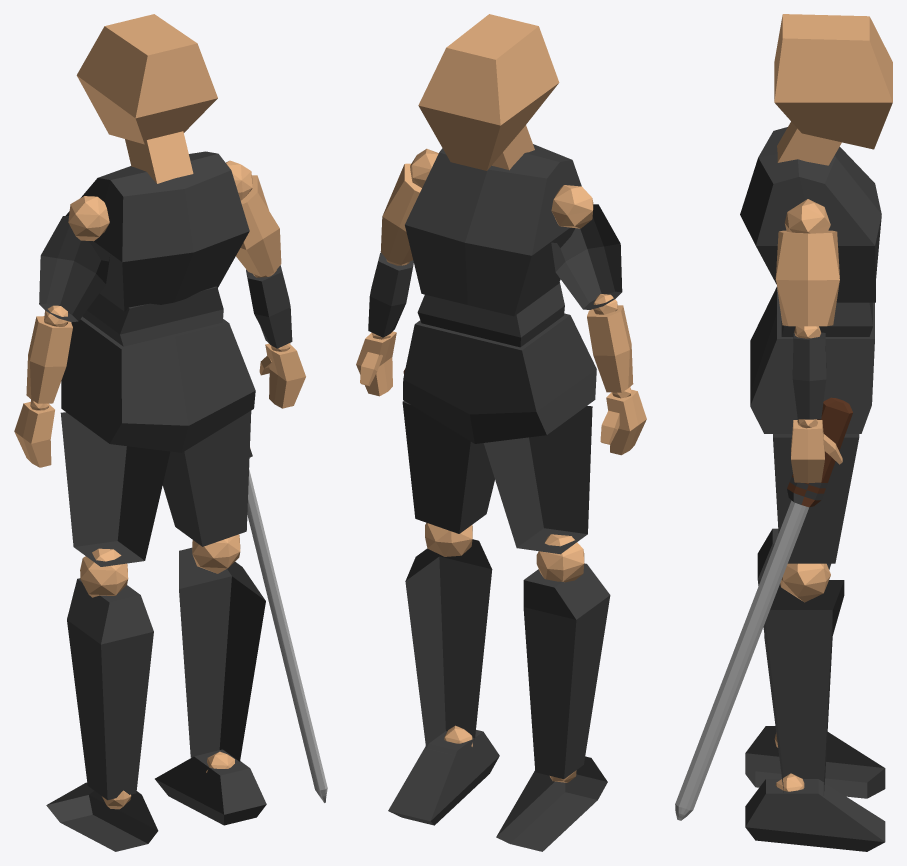
Rendered from Costa.fbx.
The picture shows the model from 3 angles, left to right: view 1: azimuth 30°, elevation 25°; view 2: azimuth 150°, elevation 25°; view 3: azimuth 270°, elevation 25°; orthographic projection.
Parts seen in each view (by area): view 1: Torso.004, Cube.063, Cube.067, Cube.065, Head.004, BeinLi.004, BeinRe.004, Cube.066, Cube.069, Cube.064, Cube.068, Klinge (+10 smaller); view 2: Cube.063, Torso.004, Head.004, Cube.067, Cube.065, BeinLi.004, BeinRe.004, Cube.066, Cube.068, Cube.069, Cube.064, Cube.070 (+9 smaller); view 3: Head.004, Cube.063, Cube.065, Torso.004, Cube.066, Klinge, Cube.073, BeinRe.004, Cube.068, Cube.074, Cube.078, Cube.075 (+5 smaller).
Part boxes in pixels (bbox=[...]): Torso.004: bbox=[61, 316, 255, 452]; Cube.063: bbox=[65, 151, 249, 311]; Cube.067: bbox=[67, 578, 153, 800]; Cube.065: bbox=[179, 547, 265, 761]; Head.004: bbox=[76, 14, 217, 144]; BeinLi.004: bbox=[60, 412, 170, 566]; BeinRe.004: bbox=[162, 411, 251, 546]; Cube.066: bbox=[155, 749, 266, 825]; Cube.069: bbox=[39, 216, 109, 322]; Cube.064: bbox=[82, 286, 223, 346]; Cube.068: bbox=[46, 782, 158, 851]; Klinge: bbox=[247, 469, 327, 802]; Cube.063: bbox=[405, 144, 581, 316]; Torso.004: bbox=[403, 313, 596, 443]; Head.004: bbox=[418, 14, 559, 170]; Cube.067: bbox=[523, 563, 610, 778]; Cube.065: bbox=[405, 539, 492, 755]; BeinLi.004: bbox=[483, 406, 592, 554]; BeinRe.004: bbox=[402, 401, 494, 533]; Cube.066: bbox=[388, 730, 499, 825]; Cube.068: bbox=[496, 756, 607, 851]; Cube.069: bbox=[551, 204, 622, 309]; Cube.064: bbox=[417, 282, 564, 347]; Cube.070: bbox=[587, 305, 633, 392]; Head.004: bbox=[774, 14, 892, 149]; Cube.063: bbox=[740, 127, 881, 302]; Cube.065: bbox=[764, 580, 844, 795]; Torso.004: bbox=[750, 287, 874, 433]; Cube.066: bbox=[745, 779, 885, 851]; Klinge: bbox=[675, 500, 808, 820]; Cube.073: bbox=[775, 230, 839, 326]; BeinRe.004: bbox=[773, 434, 859, 563]; Cube.068: bbox=[745, 726, 885, 798]; Cube.074: bbox=[792, 332, 826, 419]; Cube.078: bbox=[787, 397, 852, 507]; Cube.075: bbox=[791, 420, 824, 483].
Bounding box in the file's own units: 0.948 × 2.59 × 0.6466.
